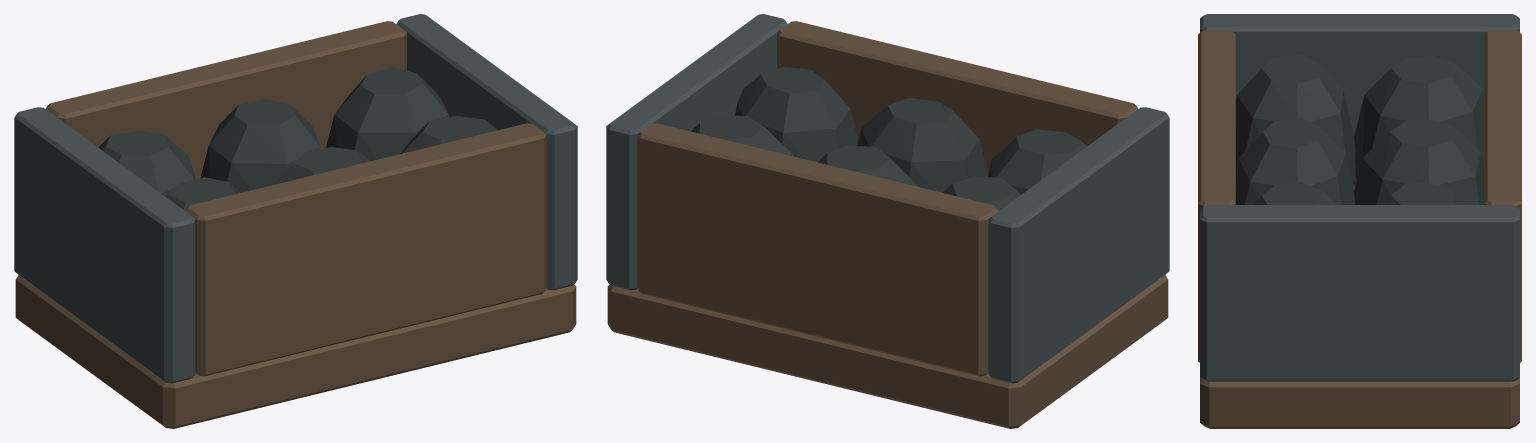
The model's file is coal-bin.glb.
3 views of the same model, side by side, from view 1: azimuth 30°, elevation 25°; view 2: azimuth 150°, elevation 25°; view 3: azimuth 270°, elevation 25° (orthographic). The views are drawn at different scales.
Parts seen in each view (by area): view 1: coal-bin__body; view 2: coal-bin__body; view 3: coal-bin__body.
Part boxes in pixels (<box>): coal-bin__body: <box>14,14,577,428</box>; coal-bin__body: <box>606,14,1169,428</box>; coal-bin__body: <box>1198,14,1521,428</box>.
Bounding box in the file's own units: 1.3 × 0.62 × 0.86.
